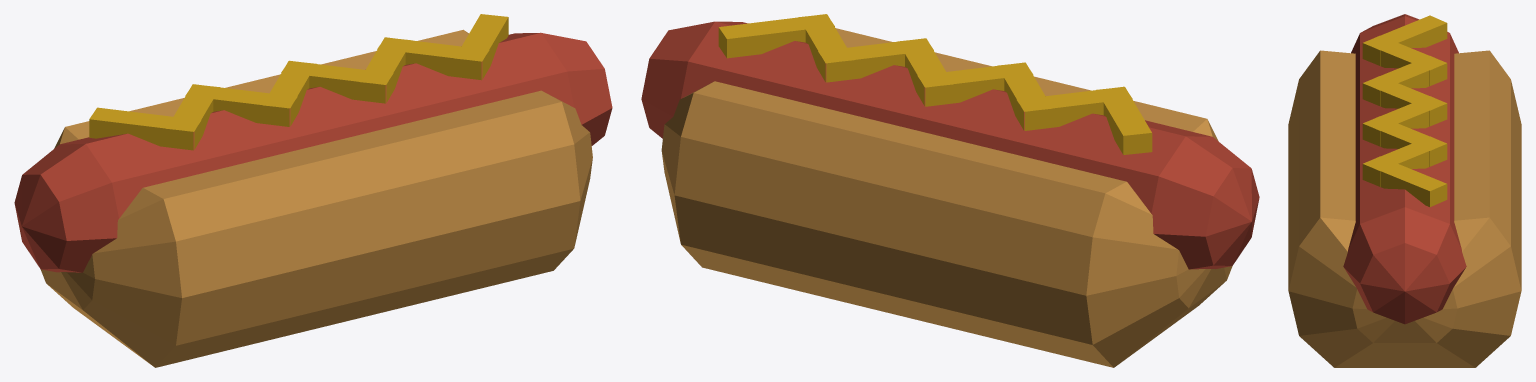
The model's file is hotdog-4e86d3.glb.
3 renders of one model, left to right at view 1: azimuth 30°, elevation 25°; view 2: azimuth 150°, elevation 25°; view 3: azimuth 270°, elevation 25°, orthographic. The views are drawn at different scales.
Bounding box in the file's own units: 0.164 × 0.0566 × 0.066.
